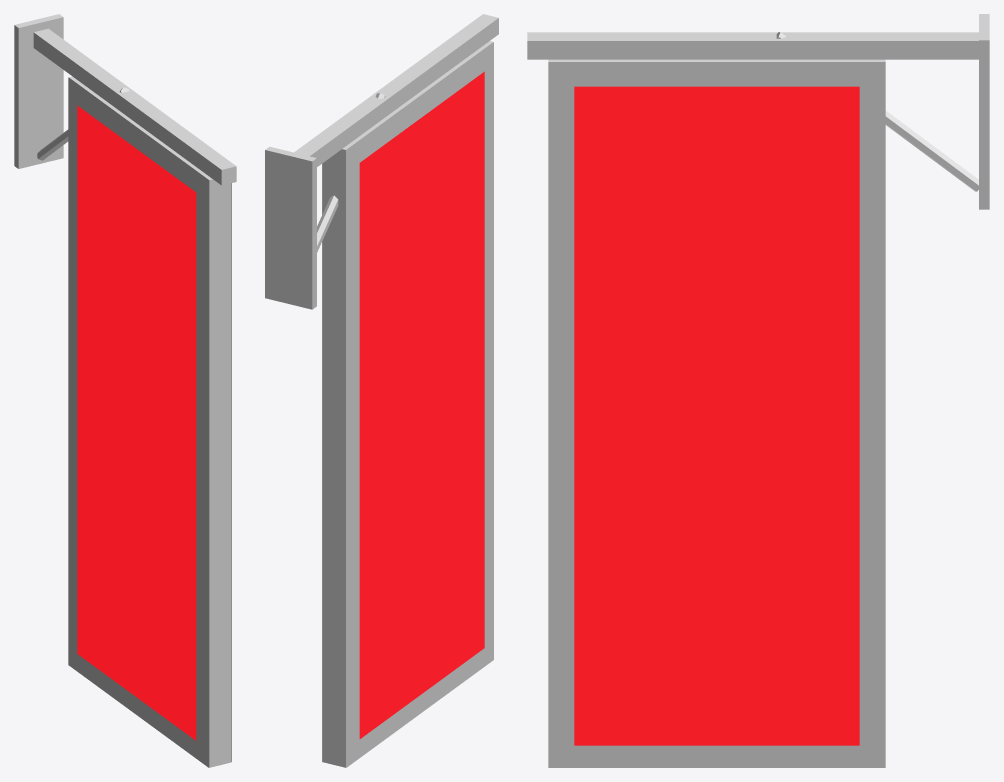
The model's file is sign_izakaya_vertical.glb.
3 views of the same model, side by side, from view 1: azimuth 30°, elevation 25°; view 2: azimuth 150°, elevation 25°; view 3: azimuth 270°, elevation 25° (orthographic). The views are drawn at different scales.
Visible parts, largest first — view 1: sign_izakaya_vertical_LOD0; view 2: sign_izakaya_vertical_LOD0; view 3: sign_izakaya_vertical_LOD0.
Boxes of the visible parts, x1=… form: sign_izakaya_vertical_LOD0: x1=14, y1=14, x2=236, y2=767; sign_izakaya_vertical_LOD0: x1=265, y1=14, x2=498, y2=767; sign_izakaya_vertical_LOD0: x1=527, y1=14, x2=989, y2=767.
Size of what is drawn, in the model's own units: 0.12 by 1.56 by 0.89.
